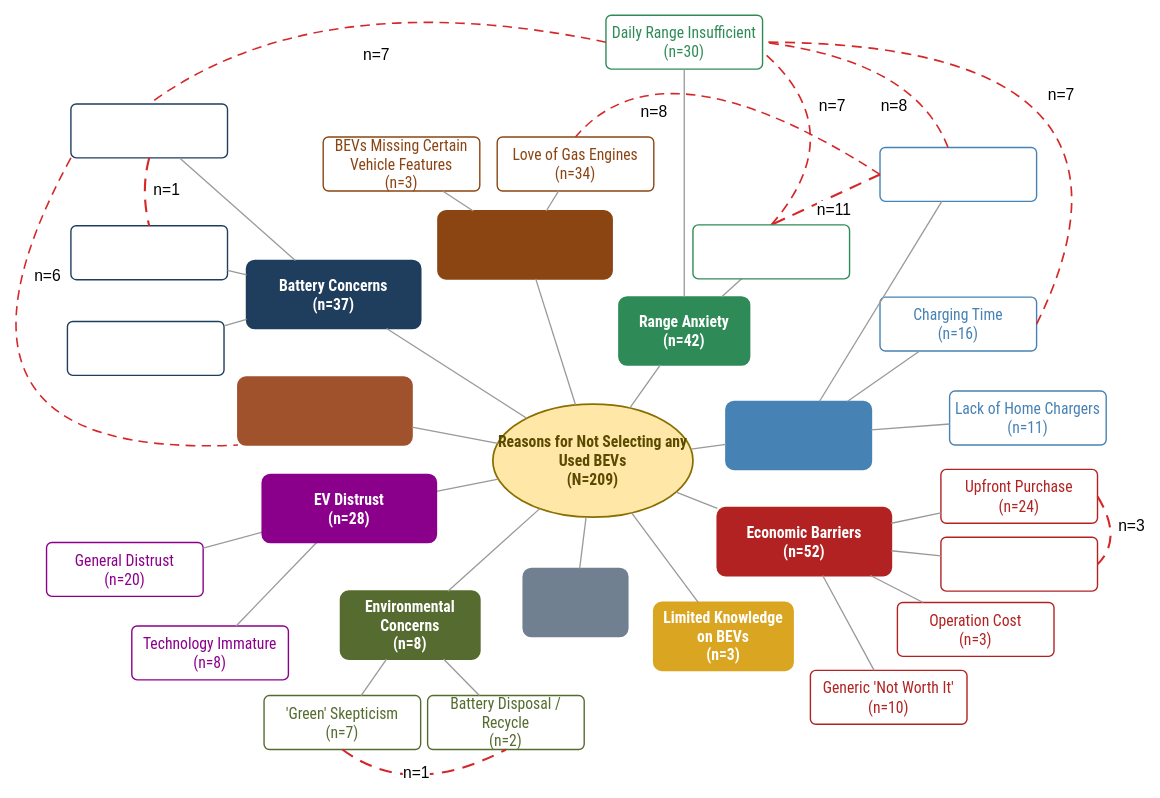
Image size: 1160x798. Some labels were removed from this diagram. The box of each missing label's shape, as (x1, y1, x2, y2) in pixels:
Charging Inconvenience (n=51): (725, 400, 872, 470)
Cold-Weather Low Performance (n=2): (66, 320, 224, 376)
Degradation / Lifespan (n=22): (70, 103, 228, 158)
Gas Vehicle Enthusiasm (n=37): (437, 210, 612, 279)
Lack of Public Chargers (n=28): (879, 146, 1037, 202)
Long-Trip Range Insufficient (n=19): (692, 224, 850, 279)
Maintenance / Repair (n=18): (940, 536, 1098, 591)
Safety (Fire, Crash) (n=14): (70, 225, 228, 280)
Simply Not Interested (n=54): (522, 567, 628, 637)
Used Vehicle Distrust (n=13): (237, 376, 412, 445)
